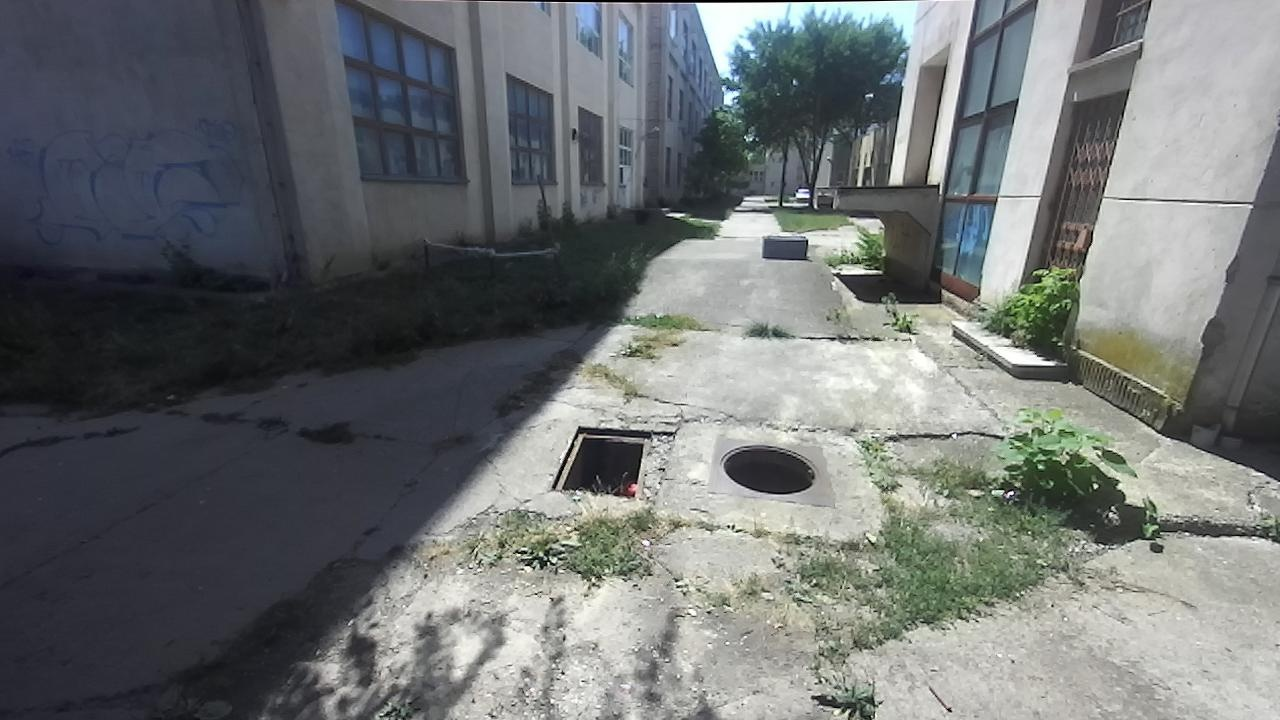drain: (542, 420, 655, 500), (713, 444, 824, 496)
